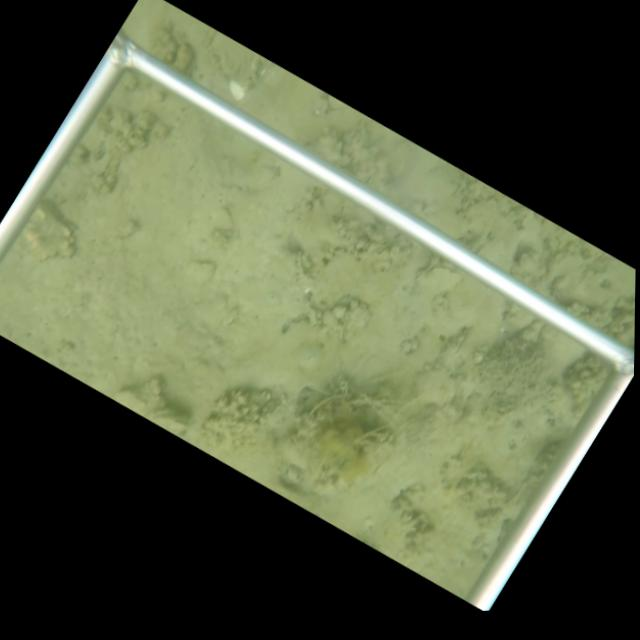Oyster-Indeterminate: (415, 264, 467, 298)
